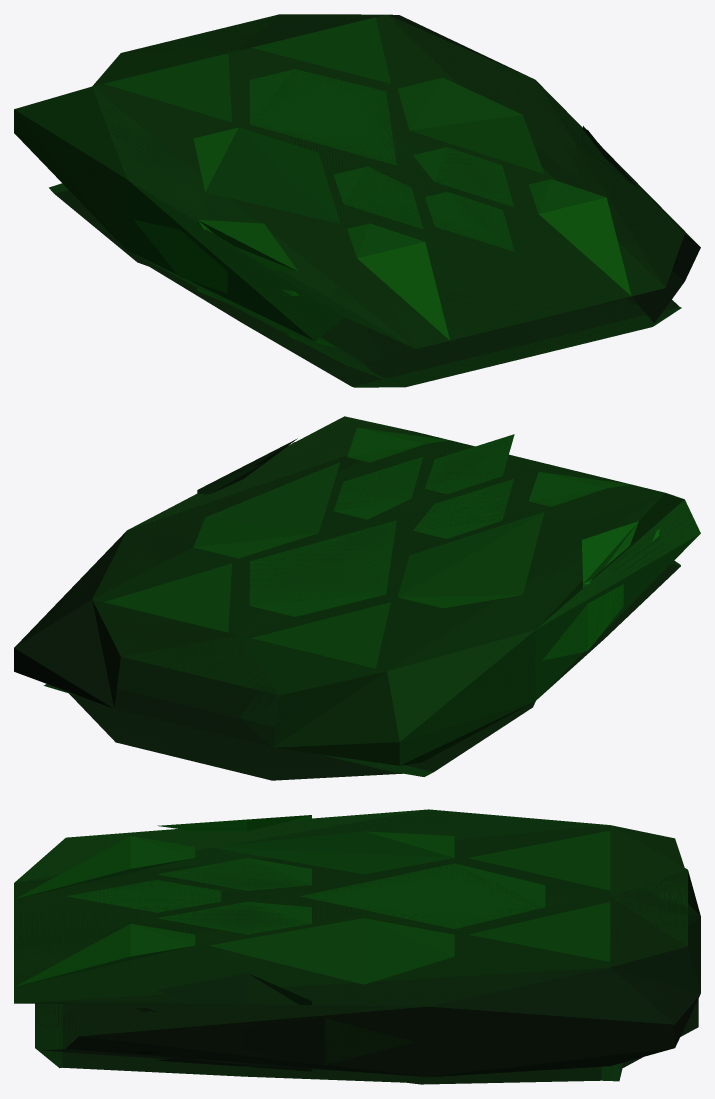
File: green-dhide-body.obj
3 views of the same model, one above another, from view 1: azimuth 30°, elevation 25°; view 2: azimuth 150°, elevation 25°; view 3: azimuth 270°, elevation 25° (orthographic).
Parts seen in each view (by area): view 1: Item Green d'hide body 2026-09-24_17-09-44; view 2: Item Green d'hide body 2026-09-24_17-09-44; view 3: Item Green d'hide body 2026-09-24_17-09-44.
Boxes of the visible parts, <box> form: Item Green d'hide body 2026-09-24_17-09-44: <box>14,14,700,387</box>; Item Green d'hide body 2026-09-24_17-09-44: <box>14,416,700,780</box>; Item Green d'hide body 2026-09-24_17-09-44: <box>14,809,700,1084</box>.
Size of the model in its own units: 36 by 8 by 53.
